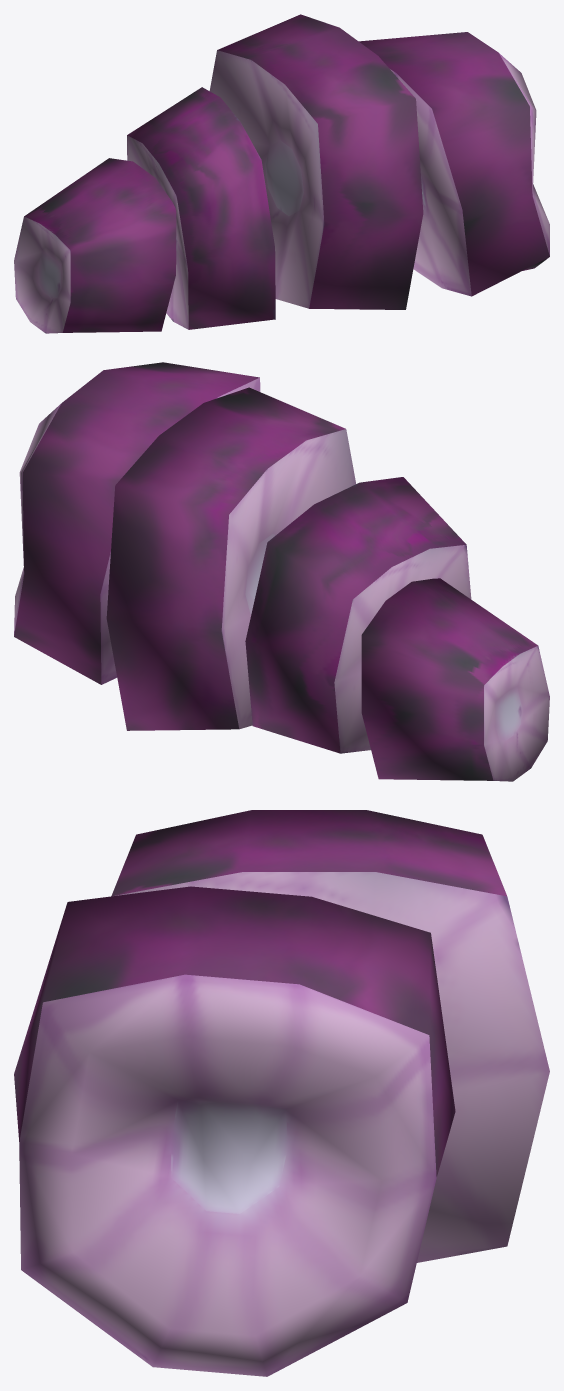
Rendered from CarneCortada.fbx.
3 renders of one model, top to bottom at view 1: azimuth 30°, elevation 25°; view 2: azimuth 150°, elevation 25°; view 3: azimuth 270°, elevation 25°, orthographic. The views are drawn at different scales.
Visible parts, largest first — view 1: CarneCortada; view 2: CarneCortada; view 3: CarneCortada.
Boxes of the visible parts, x1,y1,x2,y2 form: CarneCortada: [14, 14, 549, 333]; CarneCortada: [14, 362, 549, 781]; CarneCortada: [14, 810, 549, 1376].
Size of the model in its own units: 124 by 61.79 by 73.52.
